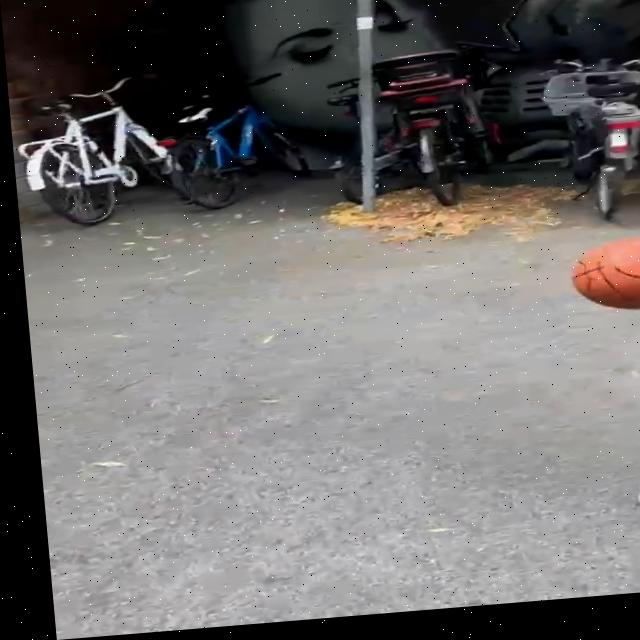Basketball: (569, 234, 640, 312)
